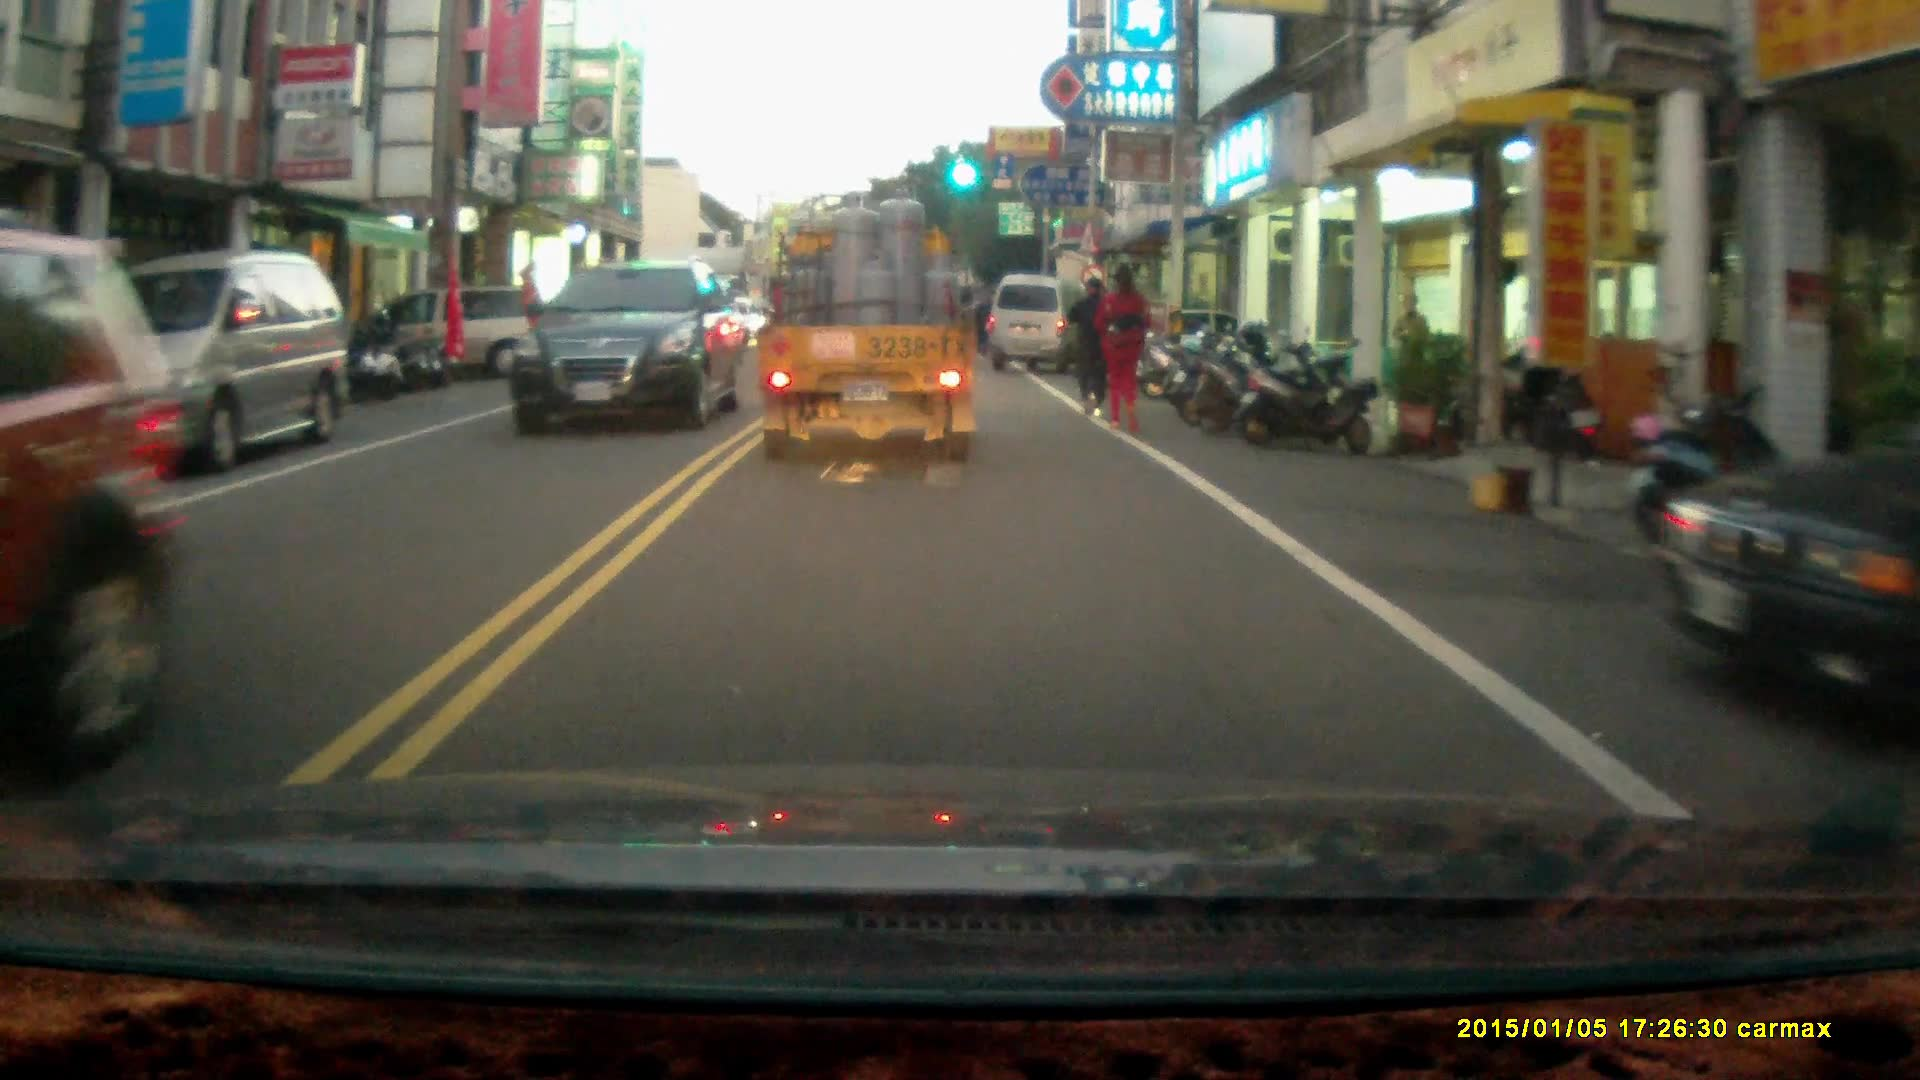pedestrian: (1092, 262, 1152, 434), (1065, 272, 1113, 416), (1389, 288, 1430, 397)
vehicle: (1652, 432, 1920, 709), (24, 250, 351, 476), (752, 174, 985, 464), (509, 254, 746, 436), (338, 287, 576, 376), (988, 275, 1093, 379)
